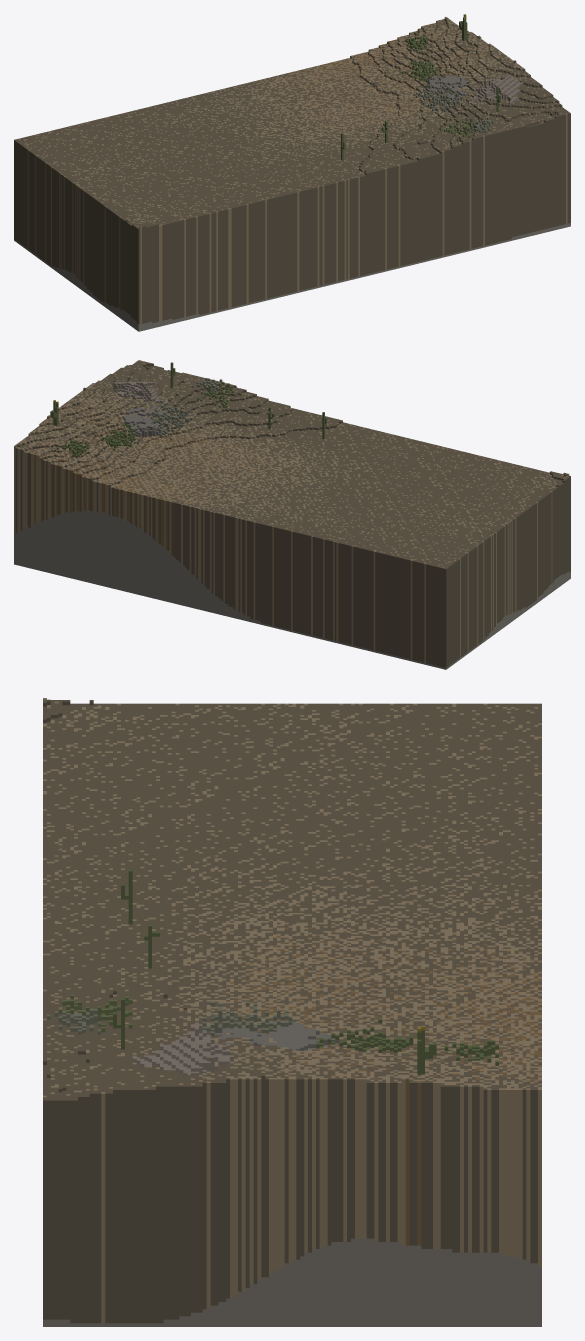
Rendered from Combined Desert(2)-5-tile 6.obj.
3 renders of one model, top to bottom at view 1: azimuth 30°, elevation 25°; view 2: azimuth 150°, elevation 25°; view 3: azimuth 270°, elevation 25°, orthographic. The views are drawn at different scales.
Parts seen in each view (by area): view 1: tile 6; view 2: tile 6; view 3: tile 6.
Boxes of the visible parts, x1=… form: tile 6: x1=14, y1=14, x2=570, y2=331; tile 6: x1=14, y1=360, x2=570, y2=669; tile 6: x1=43, y1=698, x2=541, y2=1326.
Size of the model in its own units: 25.6 by 8.2 by 12.8.
1 material, 1 textured.
